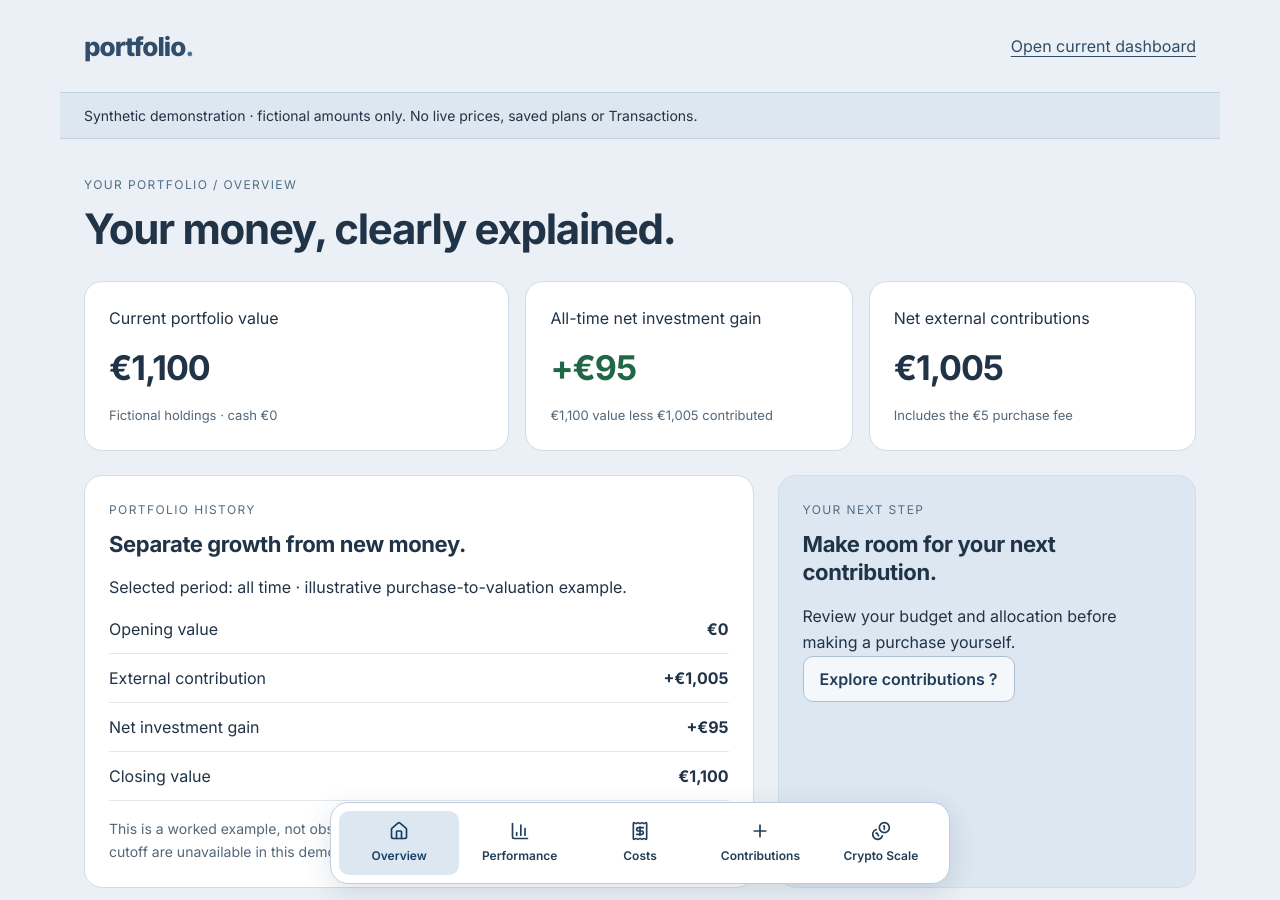
Test: replacement dashboard demonstration › keeps synthetic data explicit while navigating every destination
Check: the text "Synthetic demonstration" is shown, box left=84, top=107, right=698, bottom=124
Check: the text "€1,100" below "Current portfolio value" is shown, box left=109, top=347, right=210, bottom=388
Click the button "Performance" at (520, 843), box left=459, top=811, right=580, bottom=875
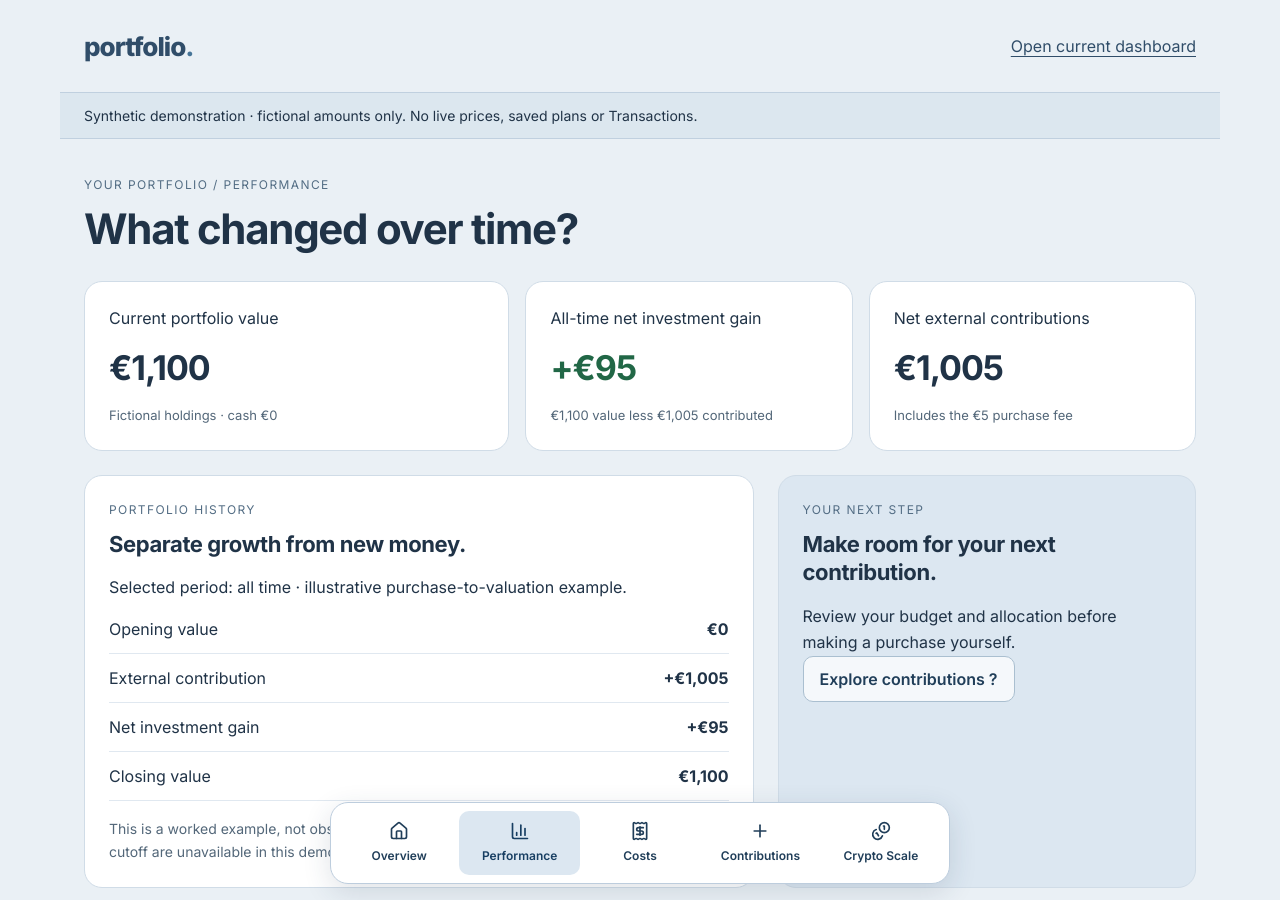
Check: the heading "What changed over time?" is shown, box left=84, top=203, right=578, bottom=254
Click the button "Costs" at (640, 843), box left=580, top=811, right=700, bottom=875
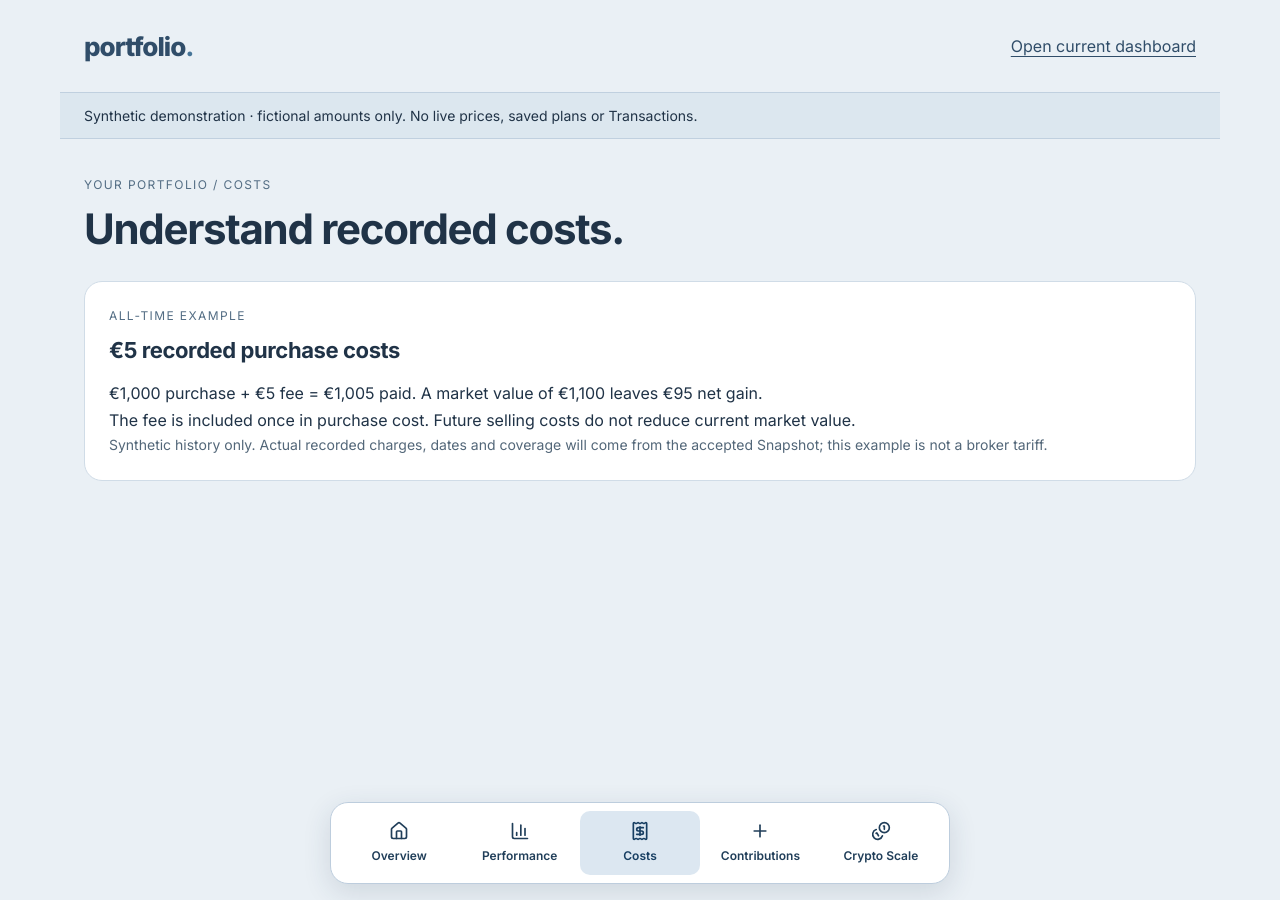
Check: the heading "Understand recorded costs." is shown, box left=84, top=203, right=624, bottom=254
Click the button "Contributions" at (760, 843), box left=700, top=811, right=821, bottom=875
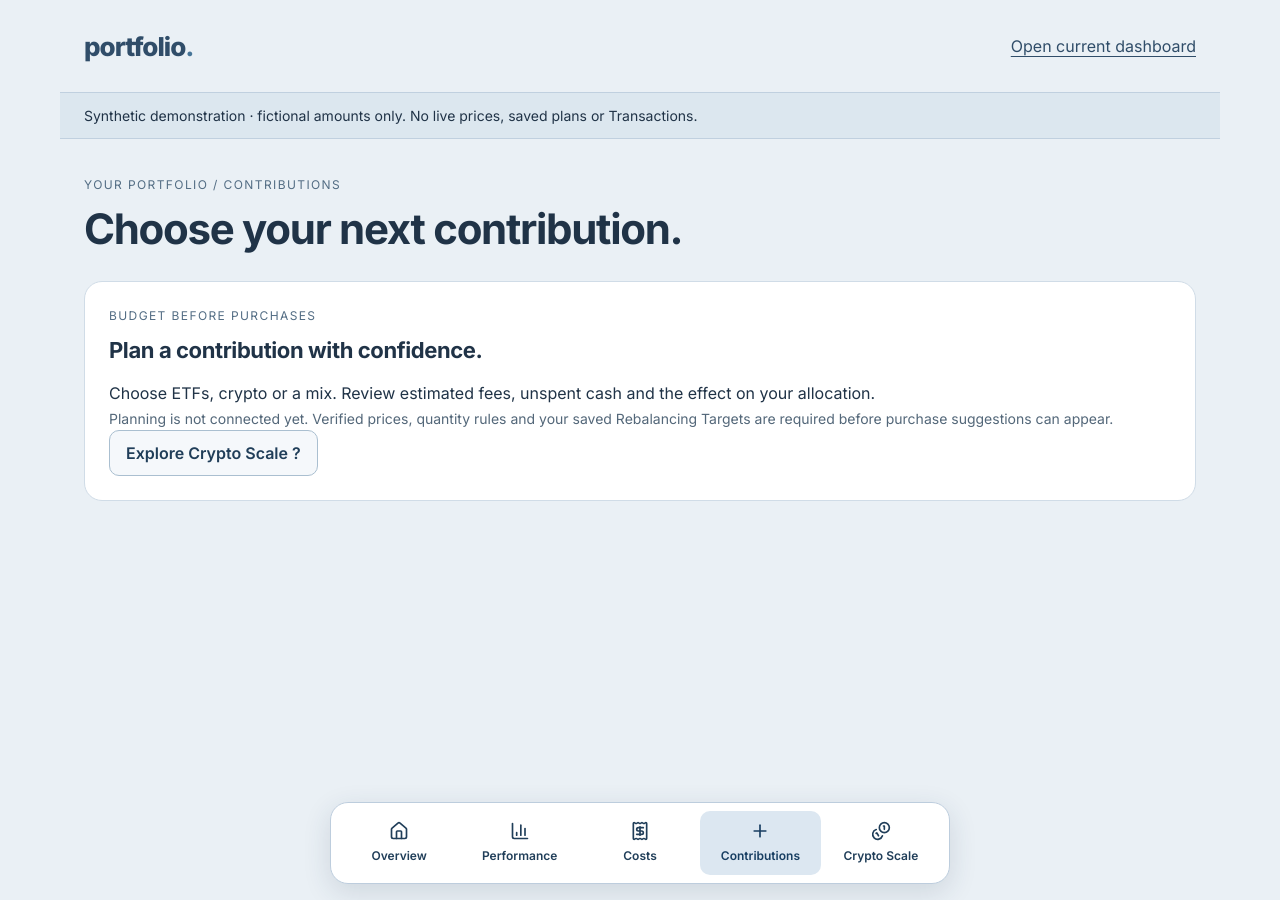
Check: the heading "Choose your next contribution." is shown, box left=84, top=203, right=682, bottom=254
Click the button "Crypto Scale" at (881, 843), box left=821, top=811, right=941, bottom=875
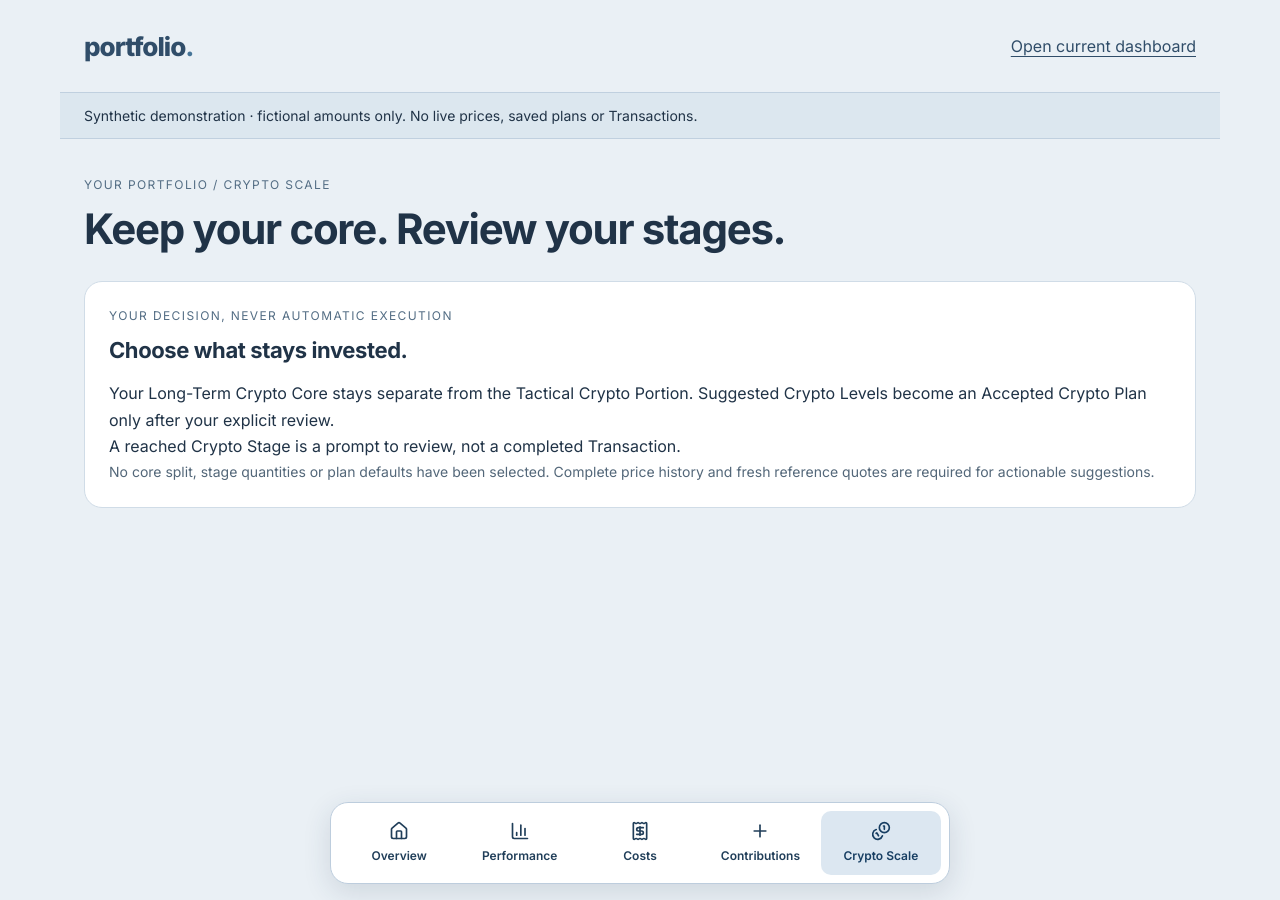
Check: the heading "Keep your core. Review your stages." is shown, box left=84, top=203, right=785, bottom=254
Click the button "Overview" at (399, 843), box left=339, top=811, right=459, bottom=875
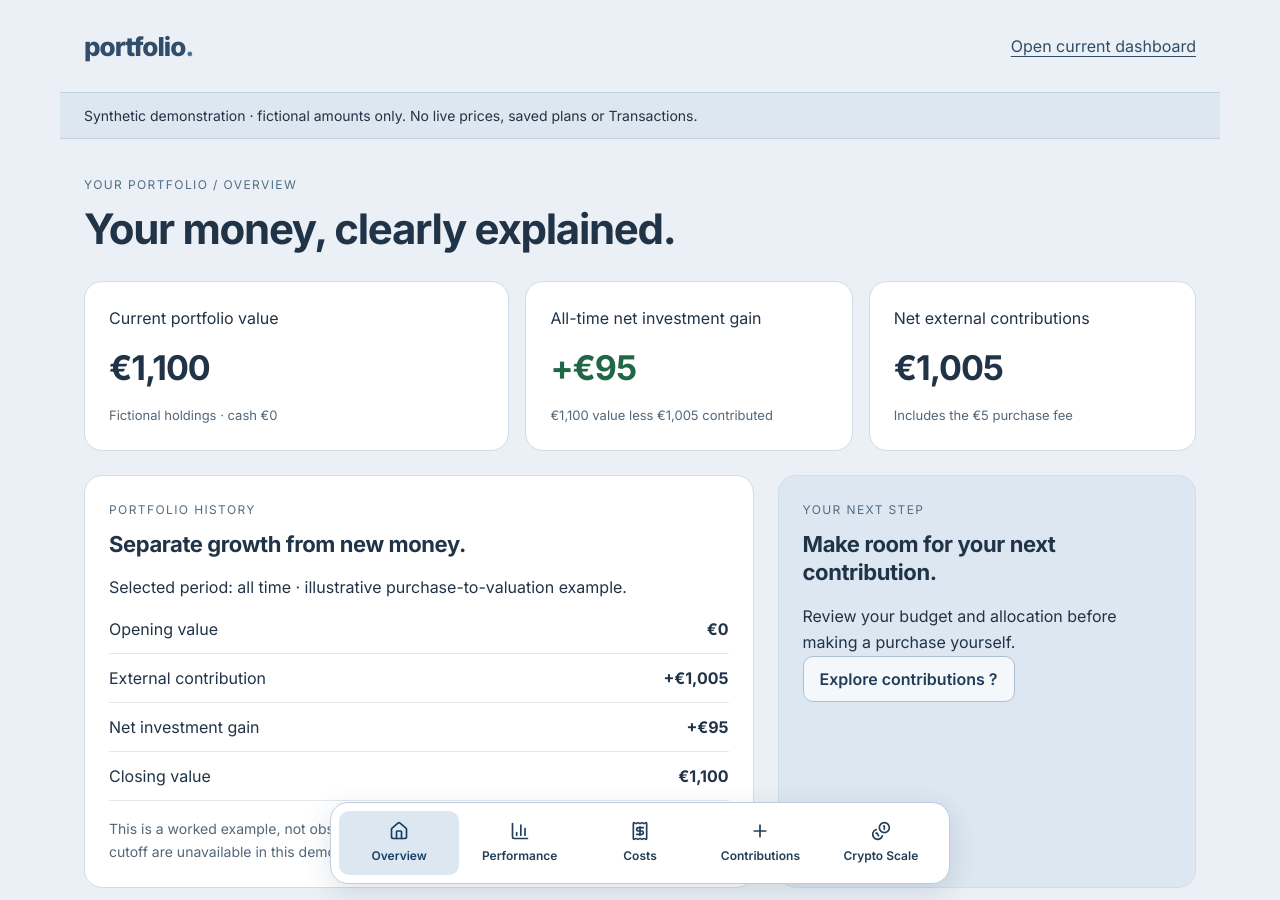
Check: the heading "Your money, clearly explained." is shown, box left=84, top=203, right=676, bottom=254
